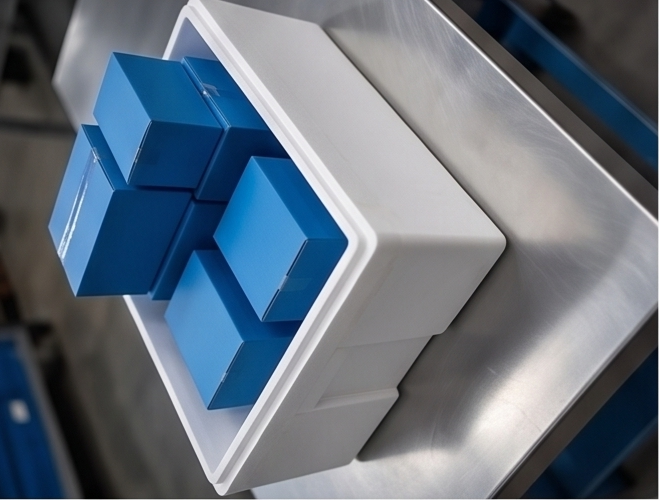blue_box: (465, 205, 611, 376), (308, 179, 447, 347), (356, 91, 499, 252), (436, 312, 568, 447), (370, 299, 478, 444), (432, 200, 511, 302)
container_box: (151, 4, 564, 500)
